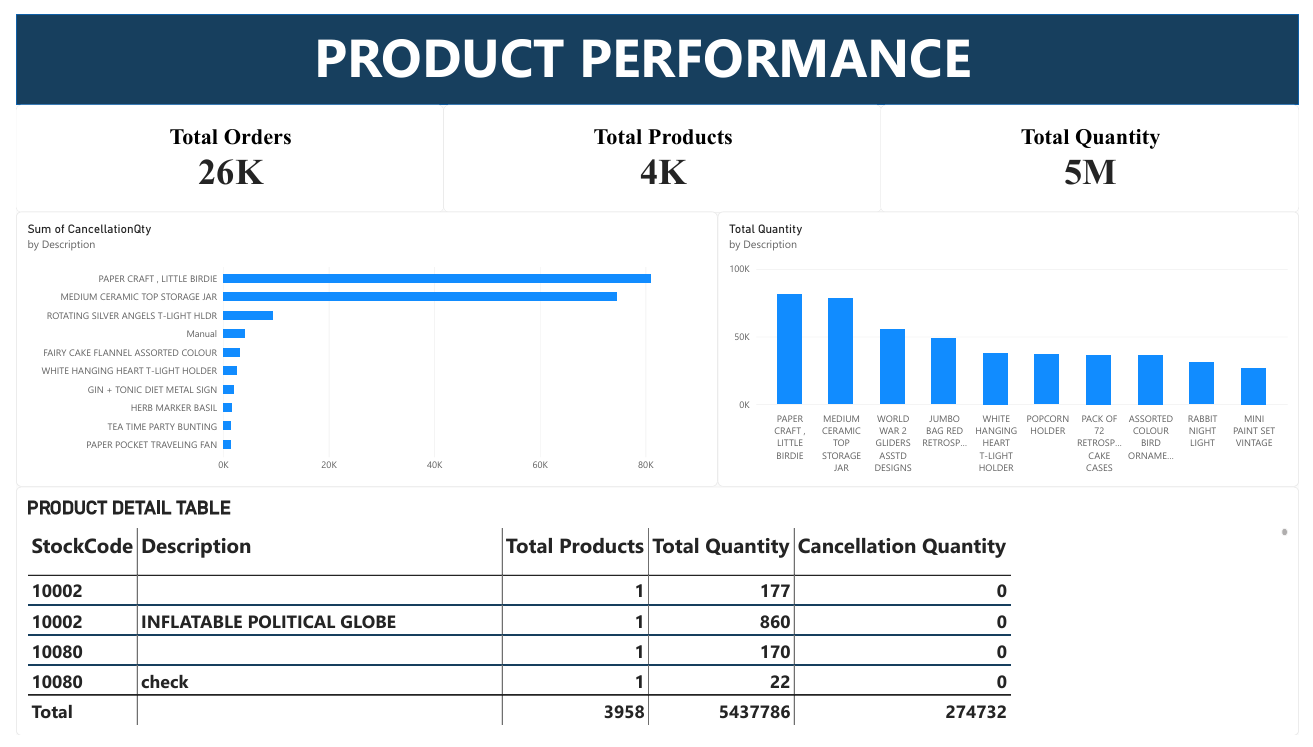

This screenshot's page, from the dashboard's own definition file:
{"tool":"powerbi","page":{"name":"Product Analysis","canvas":[1920,1080],"ordinal":1},"visuals":[{"type":"shape","box":[0,0,1920.4,135.8],"z":0},{"type":"cardVisual","fields":{"Data":["DateTable.Total Orders"]},"box":[0,135.8,640.1,160.5],"z":0,"group":"g1"},{"type":"textbox","box":[0,8.2,1920.4,111.1],"z":1000},{"type":"cardVisual","fields":{"Data":["DateTable.Total Orders"]},"box":[640.1,135.8,654.5,160.5],"z":1000,"group":"g1"},{"type":"group","id":"g1","title":"Group 1","box":[0,135.8,1920.4,160.5],"z":2000},{"type":"cardVisual","fields":{"Data":["DateTable.Total Orders"]},"box":[1294.3,135.8,625.7,160.5],"z":2000,"group":"g1"},{"type":"columnChart","fields":{"Category":["EcommerceData.Description"],"Y":["DateTable.Total Quantity"]},"box":[1049.7,296.4,870.7,411.7],"z":3000},{"type":"barChart","fields":{"Category":["EcommerceData.Description"],"Y":["Sum(EcommerceData.CancellationQty)"]},"box":[0,296.4,1049.7,411.7],"z":4000},{"type":"tableEx","title":"PRODUCT DETAIL TABLE     ","fields":{"Values":["EcommerceData.StockCode","EcommerceData.Description","DateTable.Total Products","DateTable.Total Quantity","DateTable.Cancellation Quantity"]},"box":[0,708.1,1920.4,372.6],"z":5000}]}

Visuals, with their boxes in screenshot pixels (x1, y1, x2, y2), scaled from the page's 1920x1080 canvas onto the 1313x747 screenshot:
shape: locate(0, 0, 1312, 94)
cardVisual - DateTable.Total Orders: locate(0, 94, 438, 205)
textbox: locate(0, 6, 1312, 83)
cardVisual - DateTable.Total Orders: locate(438, 94, 885, 205)
"Group 1" group: locate(0, 94, 1312, 205)
cardVisual - DateTable.Total Orders: locate(885, 94, 1312, 205)
columnChart - EcommerceData.Description x DateTable.Total Quantity: locate(718, 205, 1312, 490)
barChart - EcommerceData.Description x Sum(EcommerceData.CancellationQty): locate(0, 205, 718, 490)
"PRODUCT DETAIL TABLE     " tableEx: locate(0, 490, 1312, 746)
